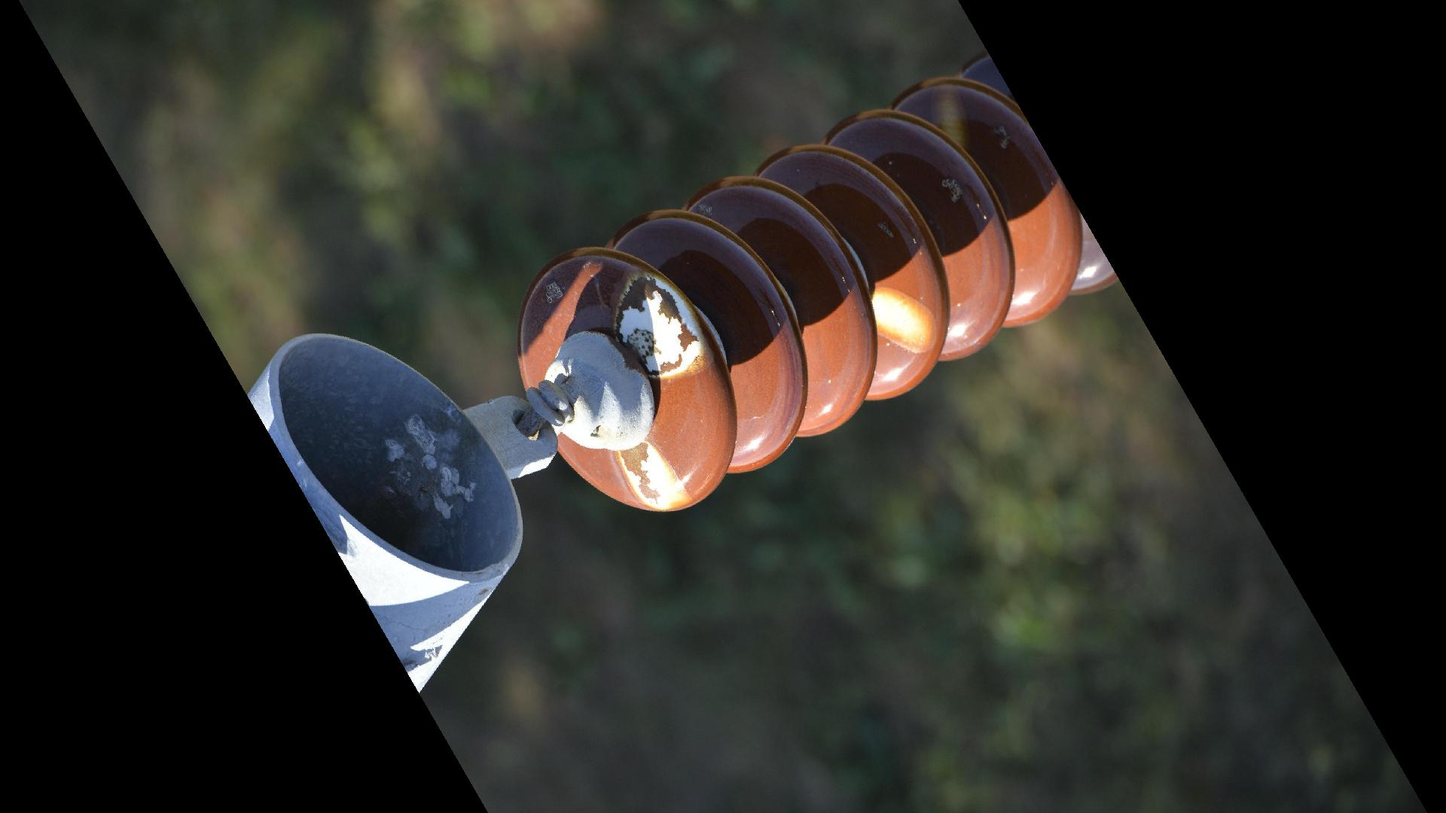insulator: (510, 47, 1119, 528)
insulator_flashover: (609, 269, 709, 382), (613, 439, 695, 516), (865, 283, 941, 358), (929, 82, 968, 152)
